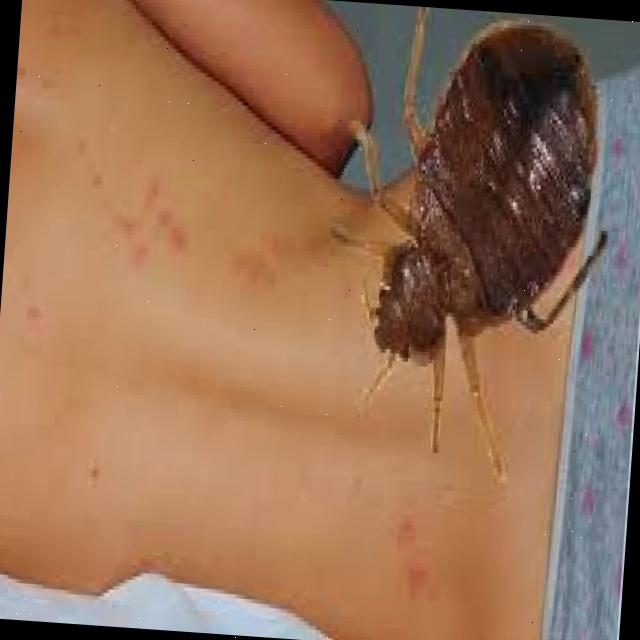kan emici bocekler: (163, 219, 190, 271)
